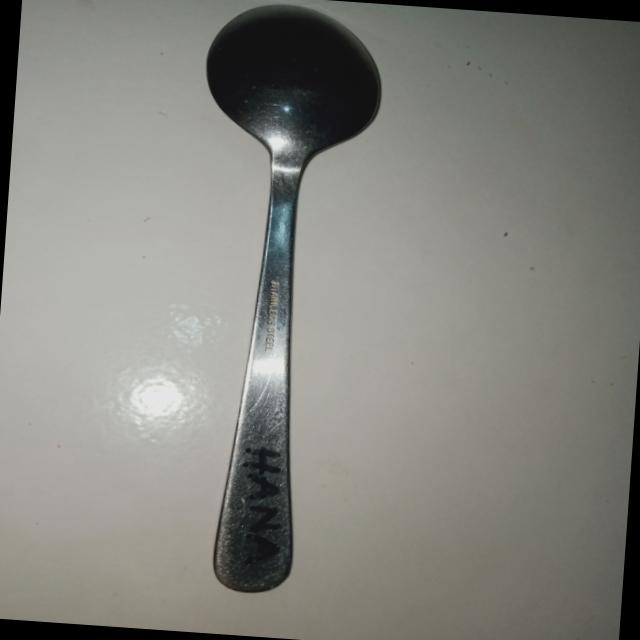spoon: (164, 0, 410, 607)
